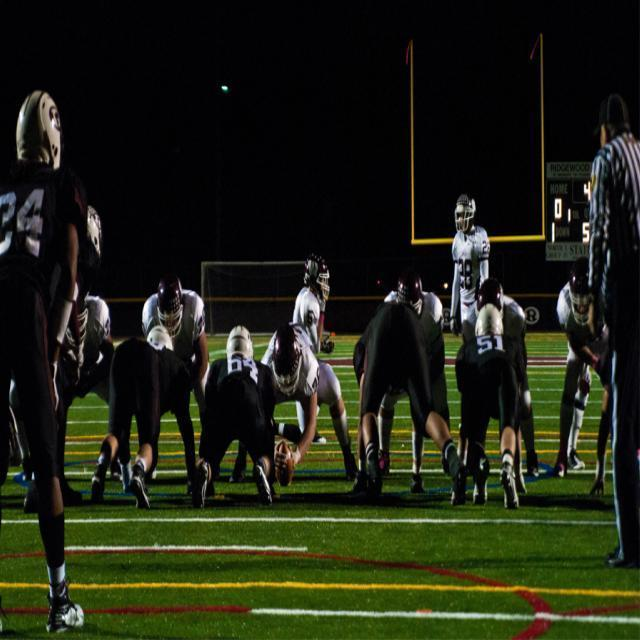ball: (274, 438, 295, 492)
